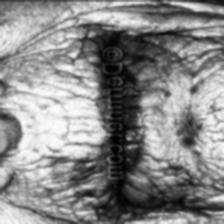Toxin: (174, 106, 205, 152)
